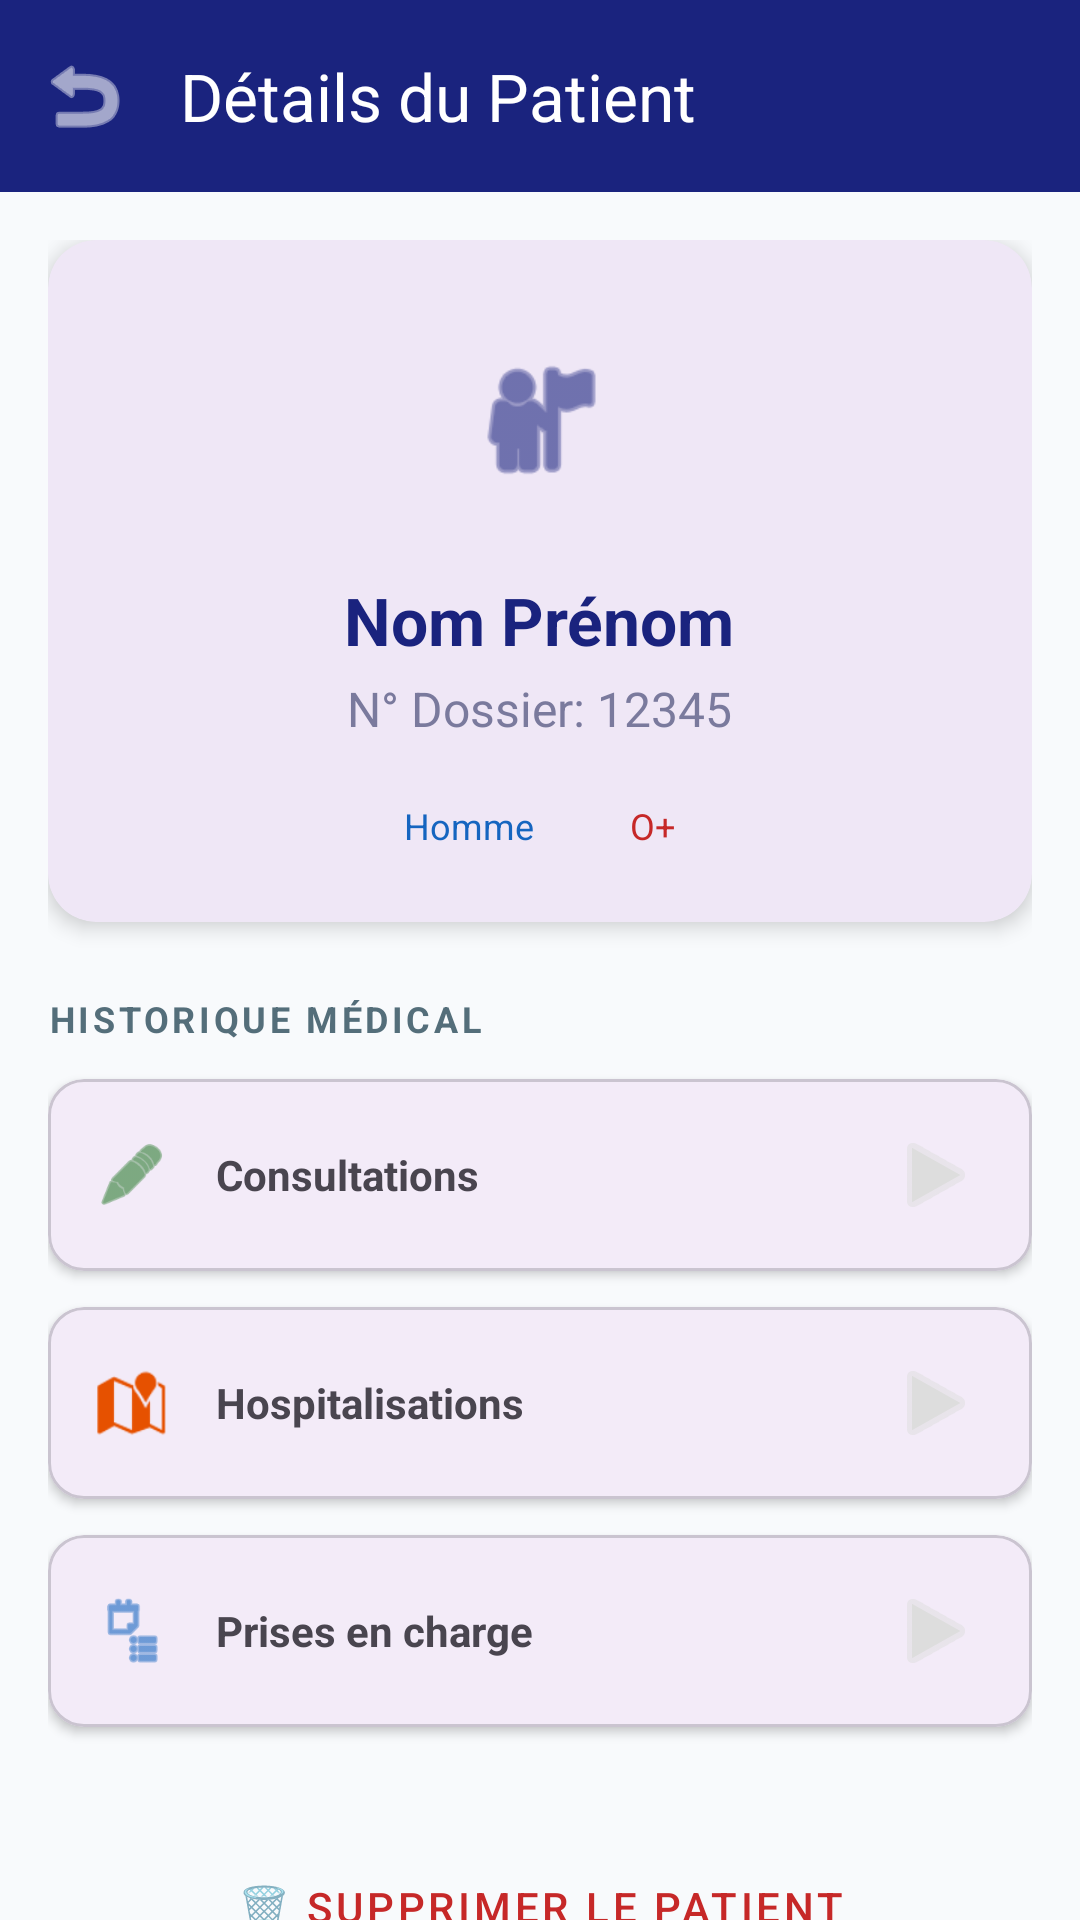

Icons on this 1080px x 1920px Android screen, each with its box as (x1, y1, x2, y2):
agenda: (107, 1599, 158, 1663)
edit: (101, 1144, 162, 1205)
map: (97, 1371, 166, 1435)
play: (912, 1148, 959, 1202), (912, 1376, 959, 1430), (912, 1604, 959, 1658)
